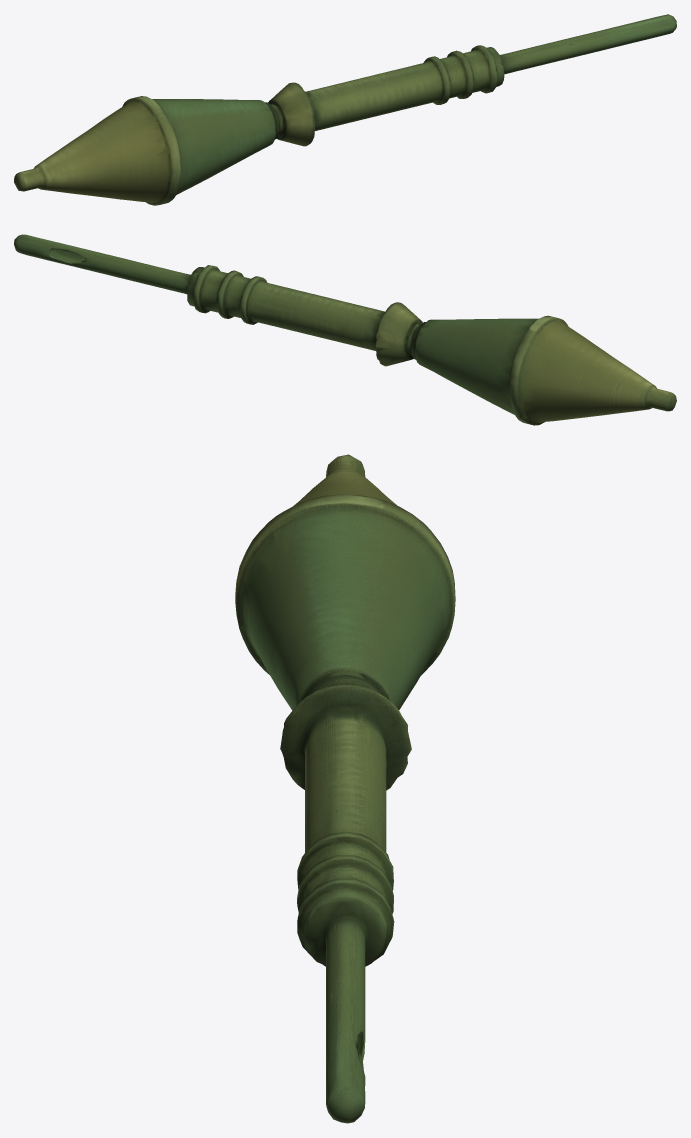
Rendered from the_negotiator_V4_bullet.glb.
3 views of the same model, one above another, from view 1: azimuth 30°, elevation 25°; view 2: azimuth 150°, elevation 25°; view 3: azimuth 270°, elevation 25° (orthographic). The views are drawn at different scales.
Parts seen in each view (by area): view 1: Mesh1.0; view 2: Mesh1.0; view 3: Mesh1.0.
Part boxes in pixels (left/top/right/bottom): Mesh1.0: left=14, top=14, right=676, bottom=205; Mesh1.0: left=14, top=234, right=676, bottom=425; Mesh1.0: left=235, top=454, right=455, bottom=1123.
Bounding box in the file's own units: 1.91 × 0.2769 × 0.2769.
Materials: 1 (1 with a texture image).
